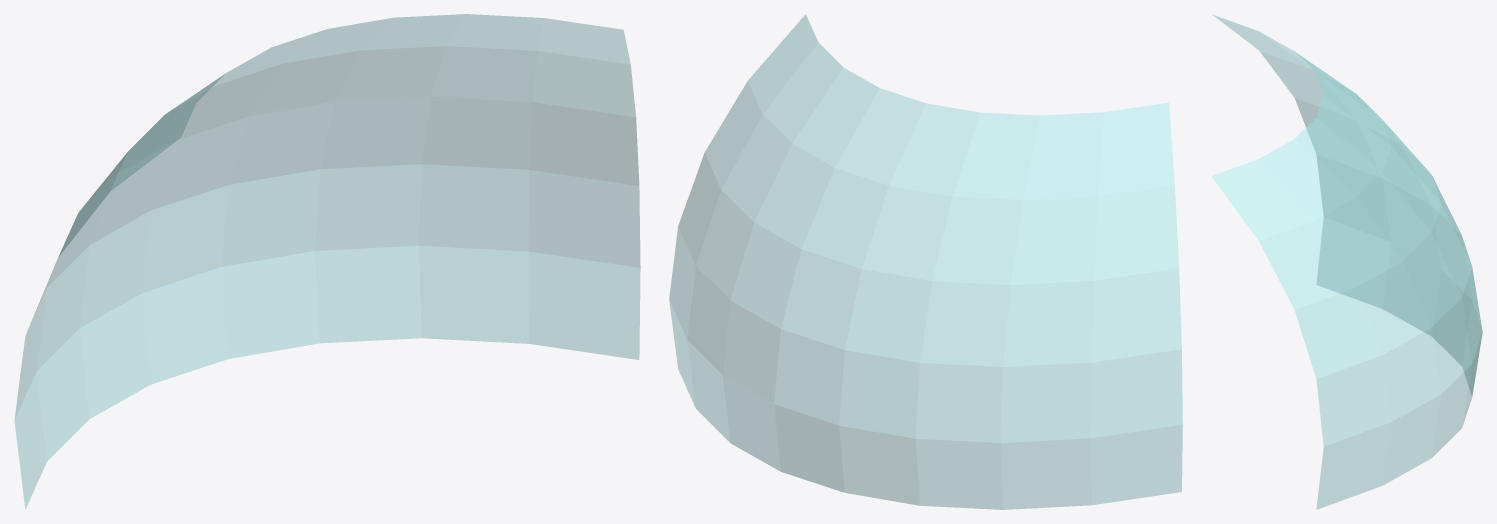
Rendered from Window.obj.
The picture shows the model from 3 angles, left to right: view 1: azimuth 30°, elevation 25°; view 2: azimuth 150°, elevation 25°; view 3: azimuth 270°, elevation 25°; orthographic projection. The views are drawn at different scales.
Visible parts, largest first — view 1: Sphere; view 2: Sphere; view 3: Sphere.
Part boxes in pixels (box(x1,y1,x2,y2)): Sphere: box(14, 14, 640, 508); Sphere: box(669, 14, 1182, 509); Sphere: box(1211, 14, 1482, 509).
Size of the model in its own units: 1.41 by 0.8688 by 0.7069.
Materials: 1 (1 with a texture image).
